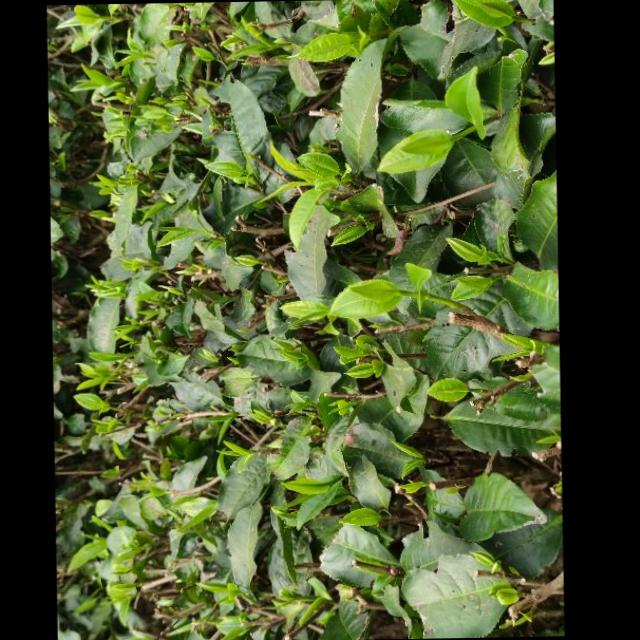Stem: (455, 128, 468, 140), (426, 294, 441, 302), (333, 475, 341, 482), (468, 388, 478, 392), (193, 229, 202, 233), (276, 43, 284, 47), (109, 407, 116, 410), (253, 450, 257, 455), (101, 16, 108, 18)
